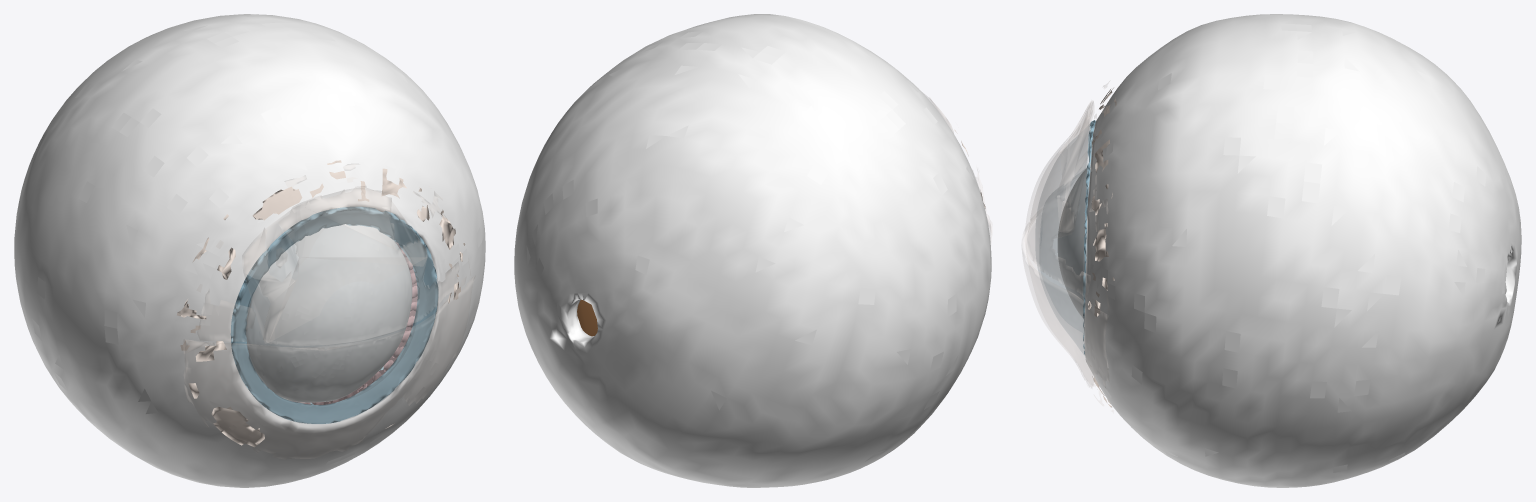
3 views of the same model, side by side, from view 1: azimuth 30°, elevation 25°; view 2: azimuth 150°, elevation 25°; view 3: azimuth 270°, elevation 25° (orthographic).
Parts seen in each view (by area): view 1: VH_F_sclera_R, VH_F_cornea_R, VH_F_palpebral_conjunctiva_of_right_upper_eyelid, VH_F_palpebral_conjunctiva_of_right_lower_eyelid, VH_F_aqueous_humor_R, VH_F_corneo_scleral_junction_R, VH_F_bulbar_conjunctiva_R, VH_F_ciliary_muscle_R; view 2: VH_F_sclera_R, VH_F_optic_choroid_R; view 3: VH_F_sclera_R, VH_F_cornea_R, VH_F_palpebral_conjunctiva_of_right_upper_eyelid, VH_F_palpebral_conjunctiva_of_right_lower_eyelid, VH_F_aqueous_humor_R, VH_F_bulbar_conjunctiva_R, VH_F_corneo_scleral_junction_R.
Part boxes in pixels (x1,y1,x2,y2): VH_F_sclera_R: (14,14,485,487); VH_F_cornea_R: (233,209,438,423); VH_F_palpebral_conjunctiva_of_right_upper_eyelid: (197,164,470,345); VH_F_palpebral_conjunctiva_of_right_lower_eyelid: (183,276,474,458); VH_F_aqueous_humor_R: (246,224,412,402); VH_F_corneo_scleral_junction_R: (230,206,438,423); VH_F_bulbar_conjunctiva_R: (177,160,465,447); VH_F_ciliary_muscle_R: (295,242,417,404); VH_F_sclera_R: (514,14,991,487); VH_F_optic_choroid_R: (577,299,597,336); VH_F_sclera_R: (1084,14,1521,487); VH_F_cornea_R: (1036,122,1093,354); VH_F_palpebral_conjunctiva_of_right_upper_eyelid: (1025,81,1109,311); VH_F_palpebral_conjunctiva_of_right_lower_eyelid: (1022,220,1113,411); VH_F_aqueous_humor_R: (1057,168,1087,318); VH_F_bulbar_conjunctiva_R: (1088,88,1116,407); VH_F_corneo_scleral_junction_R: (1083,120,1095,354).
Size of the model in its own units: 0.0245 by 0.0244 by 0.0257.
